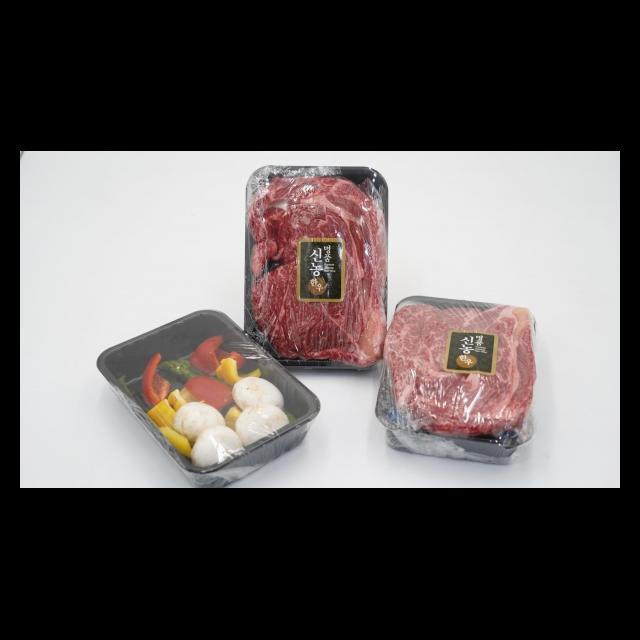beef: (270, 184, 385, 349), (394, 310, 524, 436)
